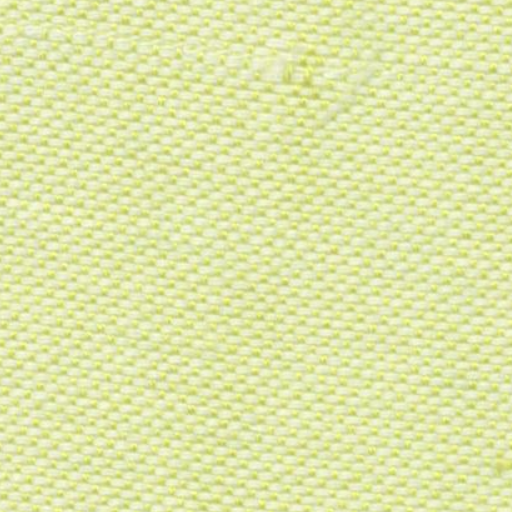DuanSha: (242, 30, 348, 100)
